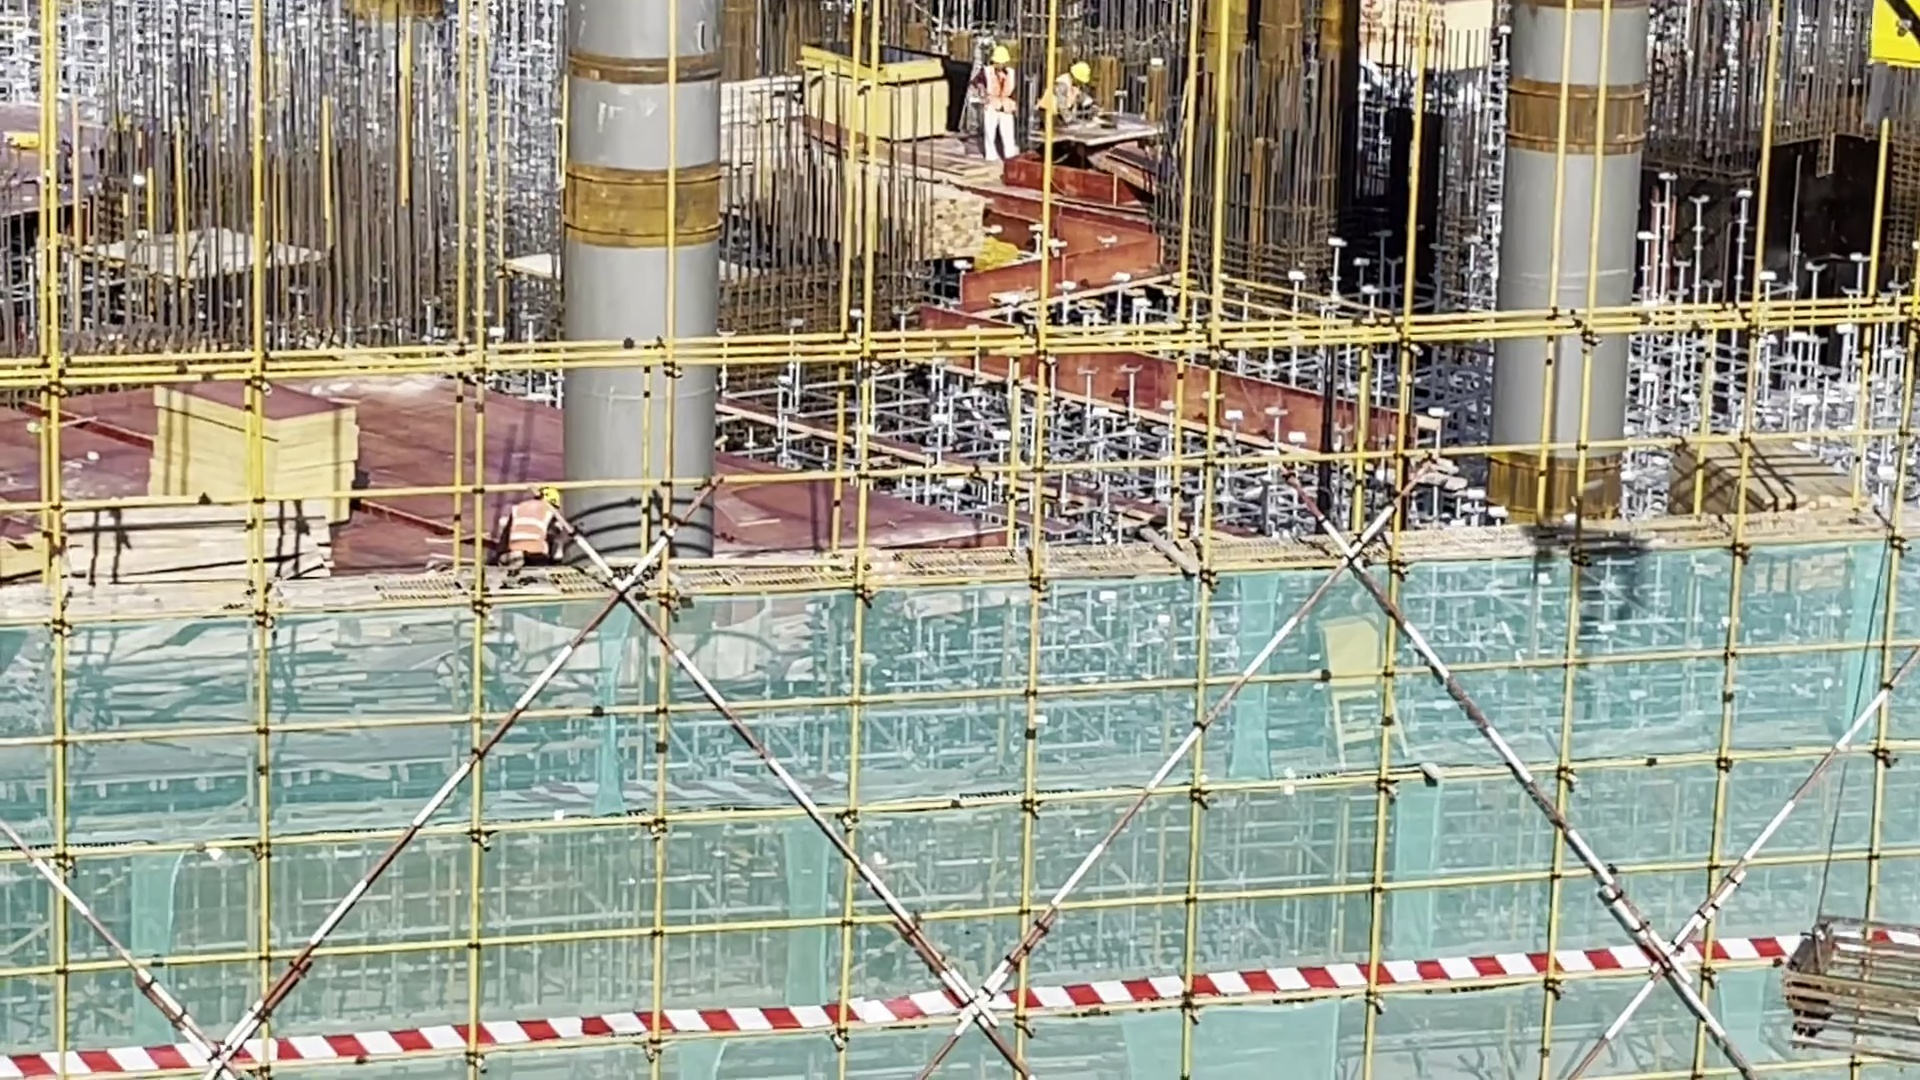board: (141, 373, 362, 531), (1662, 431, 1859, 536), (798, 49, 944, 147)
ebox: (1308, 601, 1419, 784)
helmet: (1067, 61, 1095, 88), (538, 481, 562, 511), (992, 43, 1011, 66)
person: (495, 479, 577, 604), (980, 44, 1026, 169), (1044, 54, 1104, 141)
vest: (505, 498, 561, 564), (984, 64, 1016, 116)
wood: (27, 496, 344, 635)
